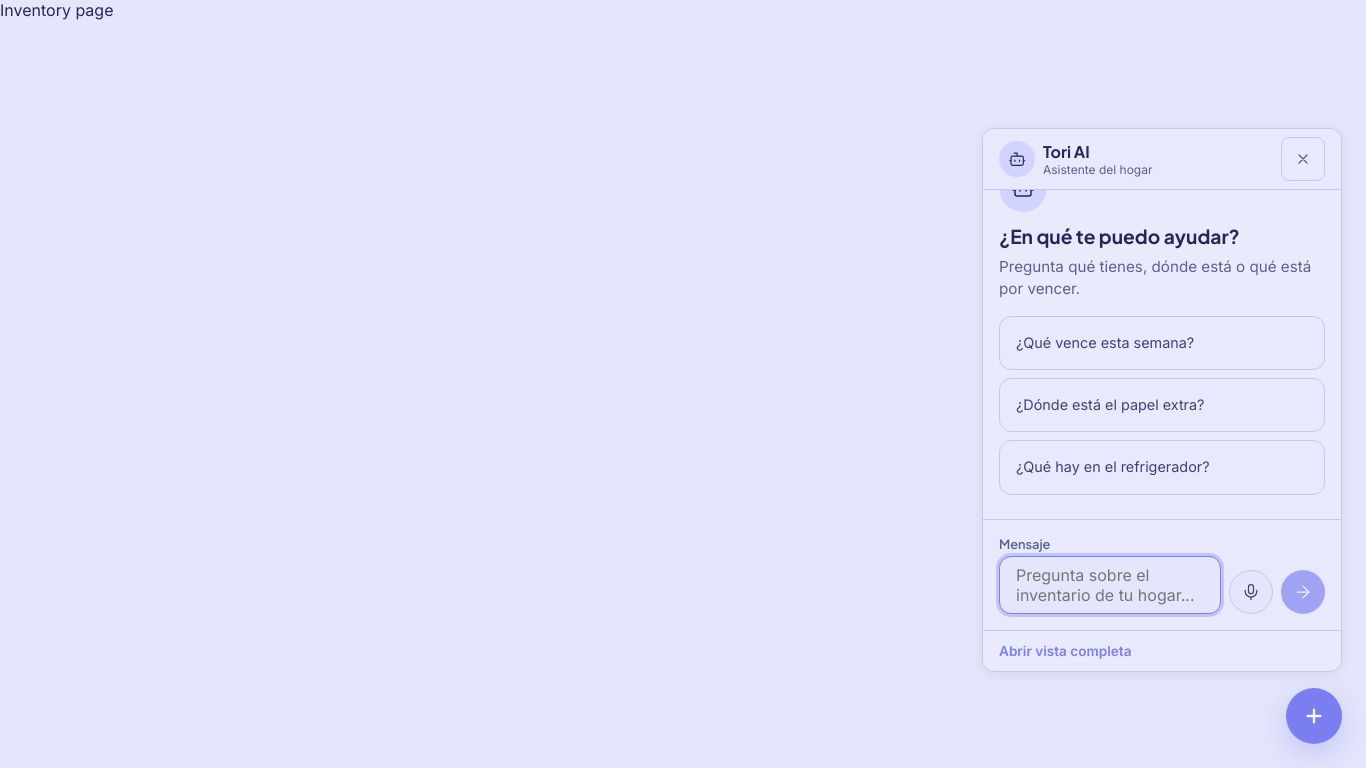
Test: ToriWidget › renders Spanish item card labels when the app language is Spanish
(page scrolled)
Click the button "¿Qué vence esta semana?" at (1162, 343), box [999, 316, 1325, 370]
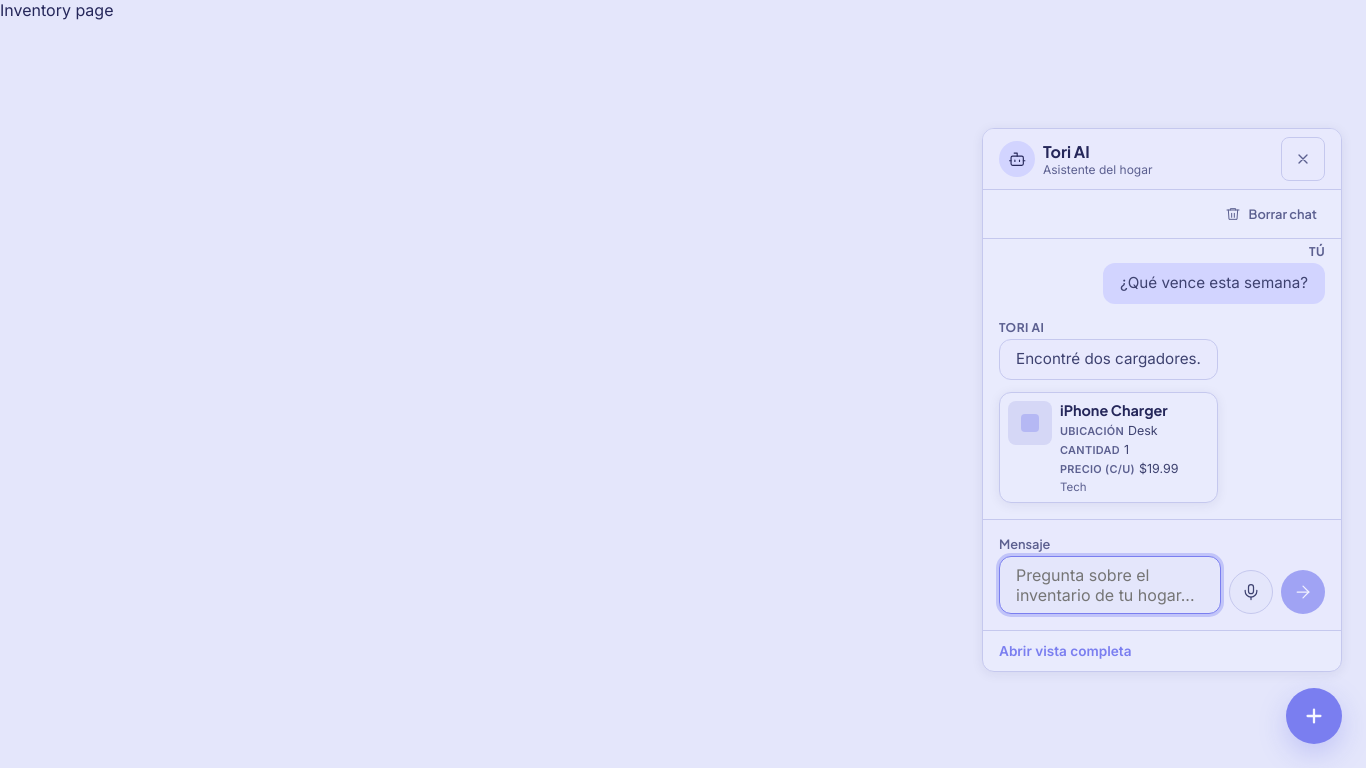
Check: the text "Ubicación" is shown, box [1060, 424, 1124, 438]
Check: the text "Cantidad" is shown, box [1060, 443, 1120, 457]
Check: the text "Precio (c/u)" is shown, box [1060, 462, 1135, 476]
